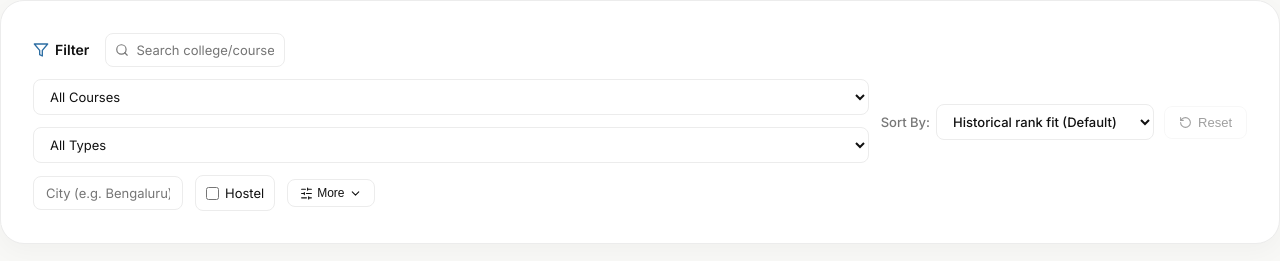
Prediction FiltersPanel › keeps filters controlled, counts active filters and applies search, course, type, location and hostel
Type "BMS" into the field named "search colleges or courses". click: [195, 50]
box: [105,33,285,67]
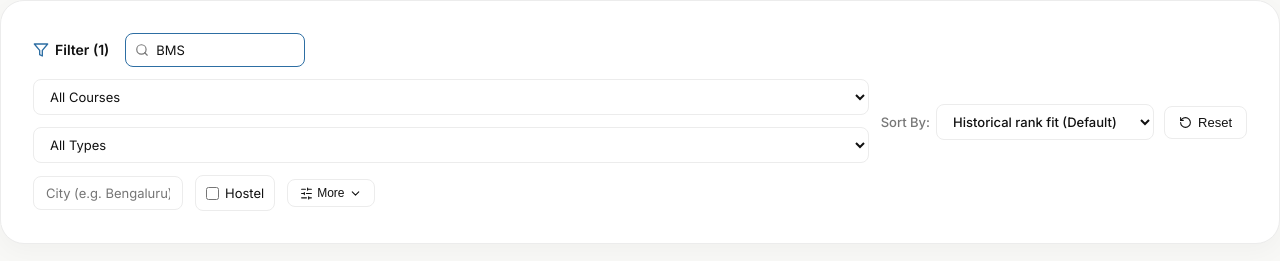
Select "Computer Science & IT" in the dropdown named "course filter". click: [451, 97]
box: [33,79,869,115]
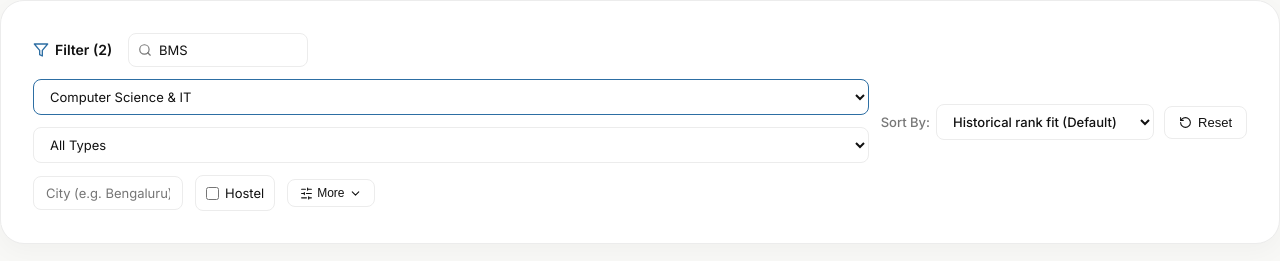
Select "Autonomous" in the dropdown named "college type filter". click: [451, 145]
box: [33,127,869,163]
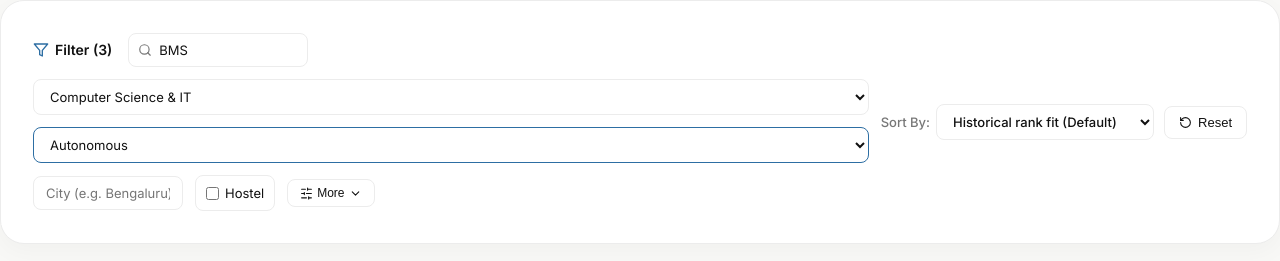
Type "Bagalkot" into the field named "City Filter". click: [108, 193]
box: [33,176,183,210]
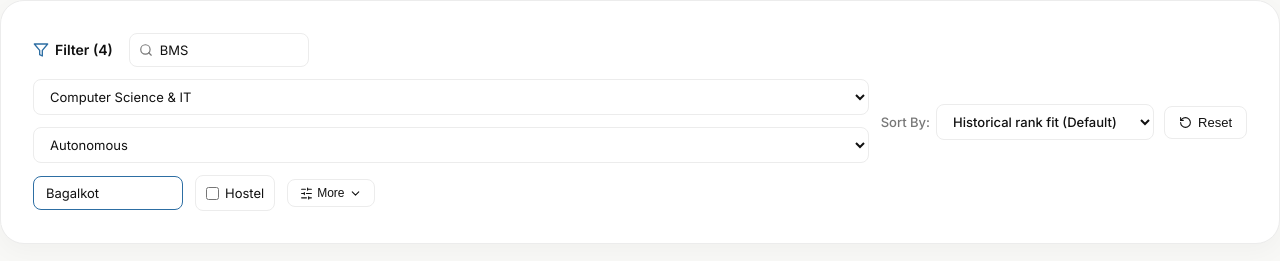
Click the checkbox labelled "Hostel". click: [212, 193]
box: [206,186,219,200]
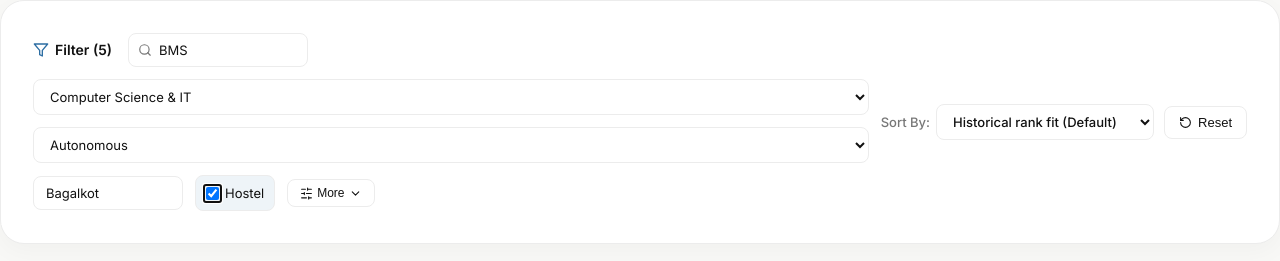
Check: the text "Filter (5)" is shown, box [55,38,112,62]
